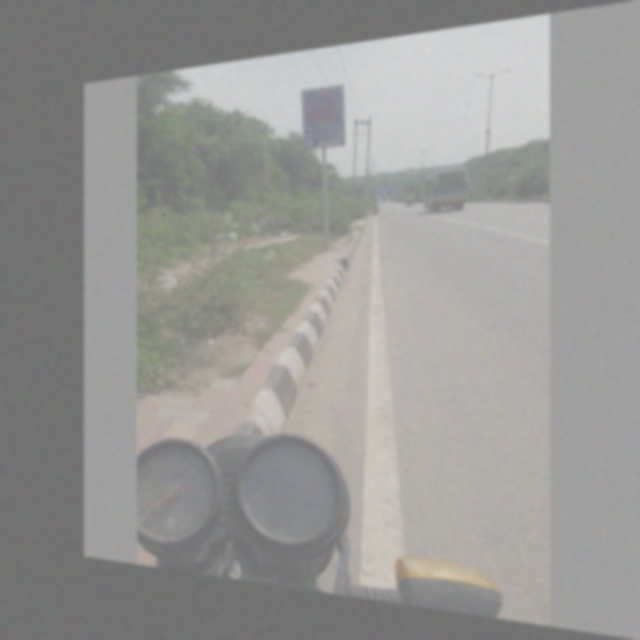No_Stopping_or_Standing: (303, 84, 342, 130)
